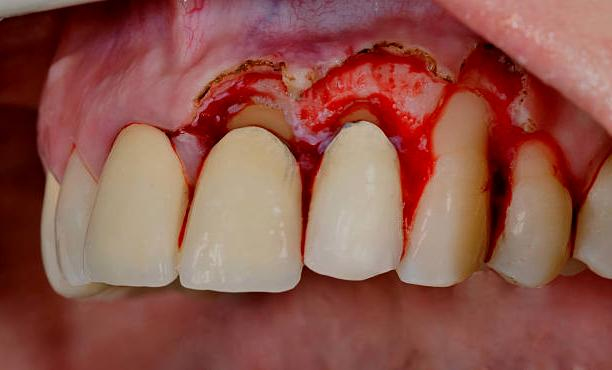Gingivitis: (272, 87, 354, 182), (370, 100, 450, 184), (154, 106, 236, 180), (458, 114, 540, 186), (536, 142, 605, 219)
